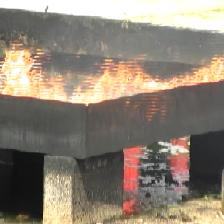fire: (0, 53, 222, 94)
